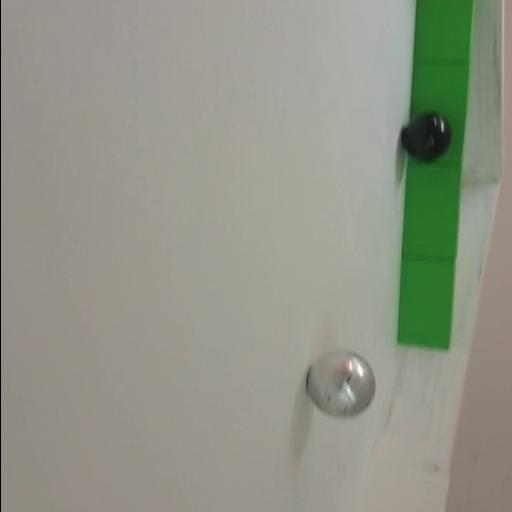alive: (306, 348, 376, 420)
dead: (400, 112, 452, 162)
